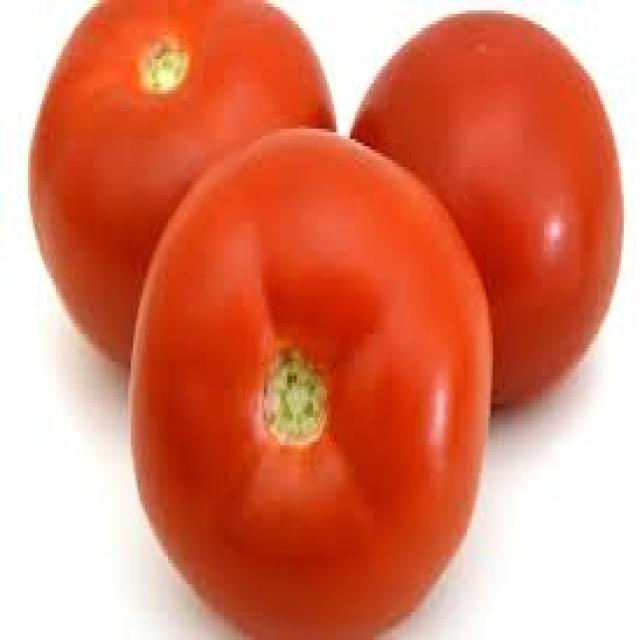Fresh_tomato: (162, 201, 479, 629), (32, 0, 327, 289), (381, 12, 629, 355)
